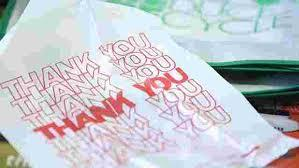Plastic bag: (1, 4, 288, 166)
